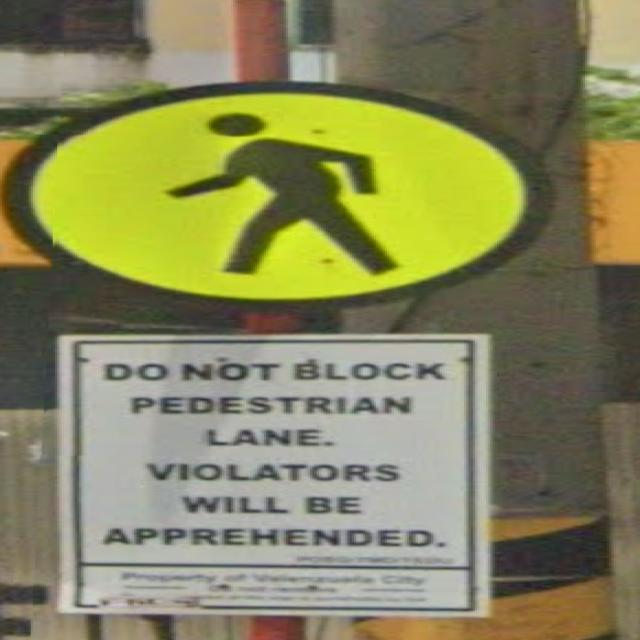pedestrian crossing: (0, 80, 554, 307)
